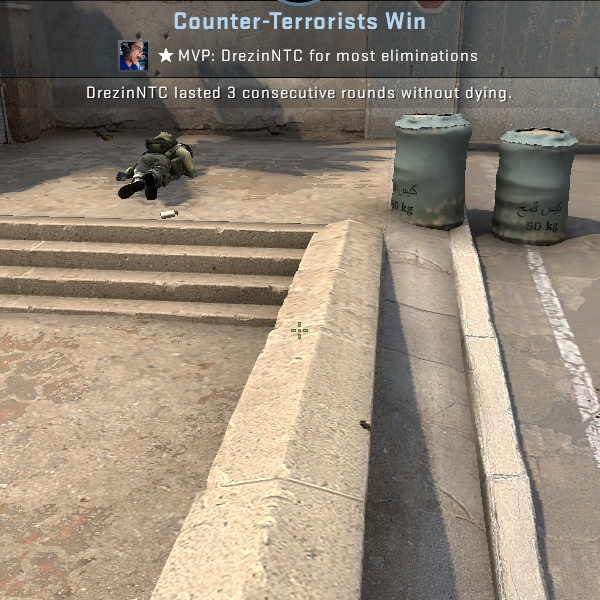ct_body: (125, 127, 198, 203)
